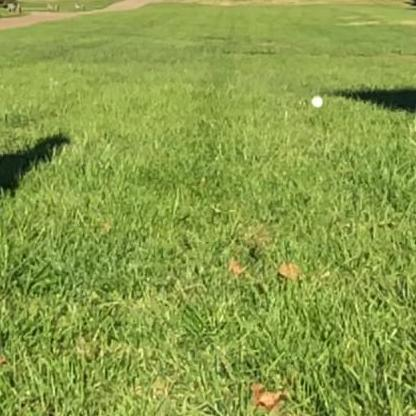golfball: (307, 94, 322, 106)
